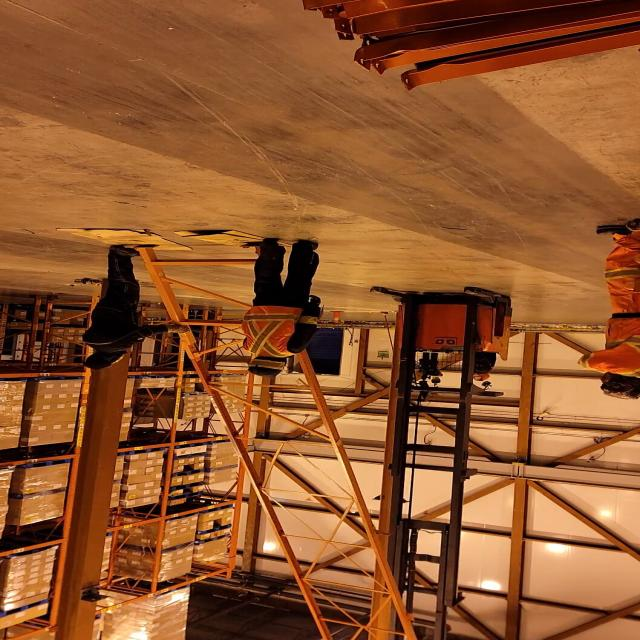forklift: (367, 284, 517, 480)
human: (76, 244, 193, 375), (237, 235, 331, 378), (573, 216, 640, 401), (435, 346, 509, 384)
objectofinterest: (128, 244, 427, 640), (51, 225, 199, 254), (166, 228, 308, 254)
